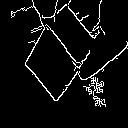cube: (15, 10, 102, 104)
